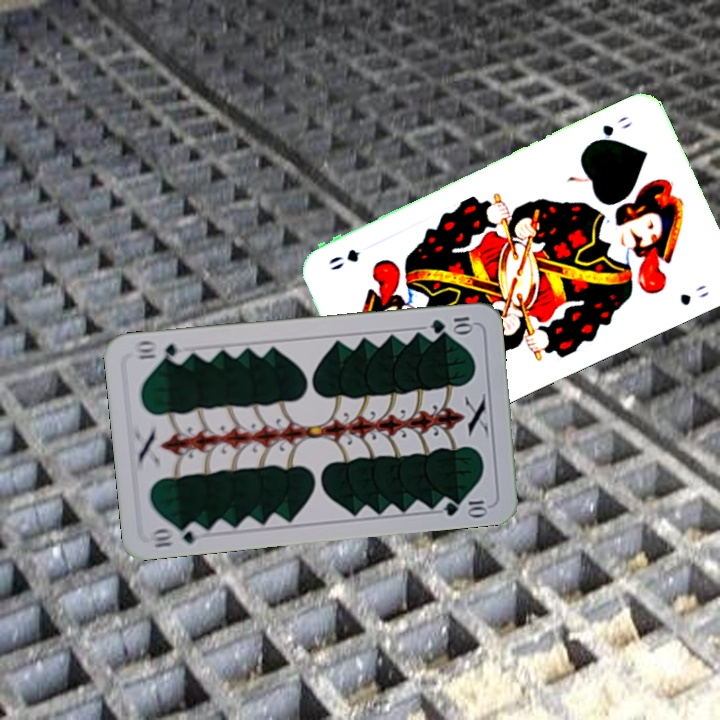G10: (147, 519, 206, 551), (427, 312, 476, 336)
GO: (586, 112, 636, 147)
